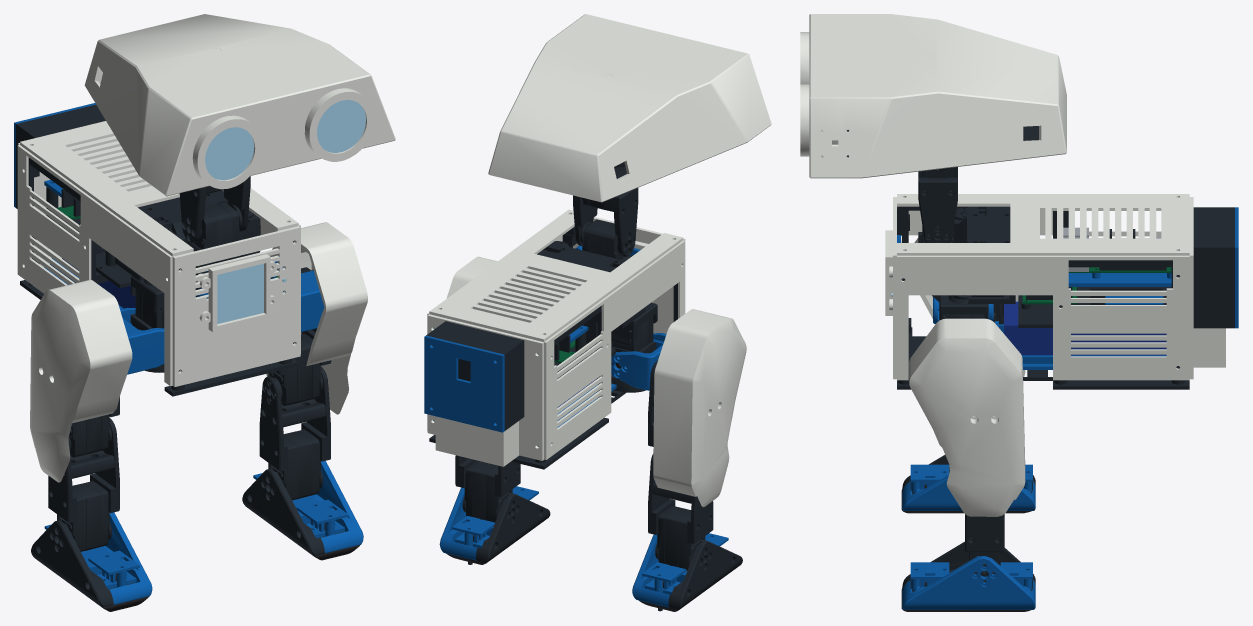
The model's file is thenar-duck.glb.
3 views of the same model, side by side, from view 1: azimuth 30°, elevation 25°; view 2: azimuth 150°, elevation 25°; view 3: azimuth 270°, elevation 25° (orthographic). The views are drawn at different scales.
Parts seen in each view (by area): view 1: light_shell, dark_print, blue_print, diffuser, tpu_sole, battery; view 2: light_shell, dark_print, blue_print; view 3: light_shell, dark_print, blue_print, battery.
Boxes of the visible parts, box(x1,y1,x2,y2) form: light_shell: box(17, 14, 395, 482); dark_print: box(16, 104, 344, 607); blue_print: box(14, 103, 363, 604); diffuser: box(205, 100, 365, 323); tpu_sole: box(36, 507, 359, 611); battery: box(62, 258, 135, 308); light_shell: box(427, 14, 771, 507); dark_print: box(426, 162, 742, 611); blue_print: box(424, 245, 728, 607); light_shell: box(800, 14, 1225, 516); dark_print: box(846, 126, 1234, 591); blue_print: box(897, 207, 1238, 609); battery: box(1004, 301, 1166, 355).
Bounding box in the file's own units: 0.246 × 0.4306 × 0.34.
